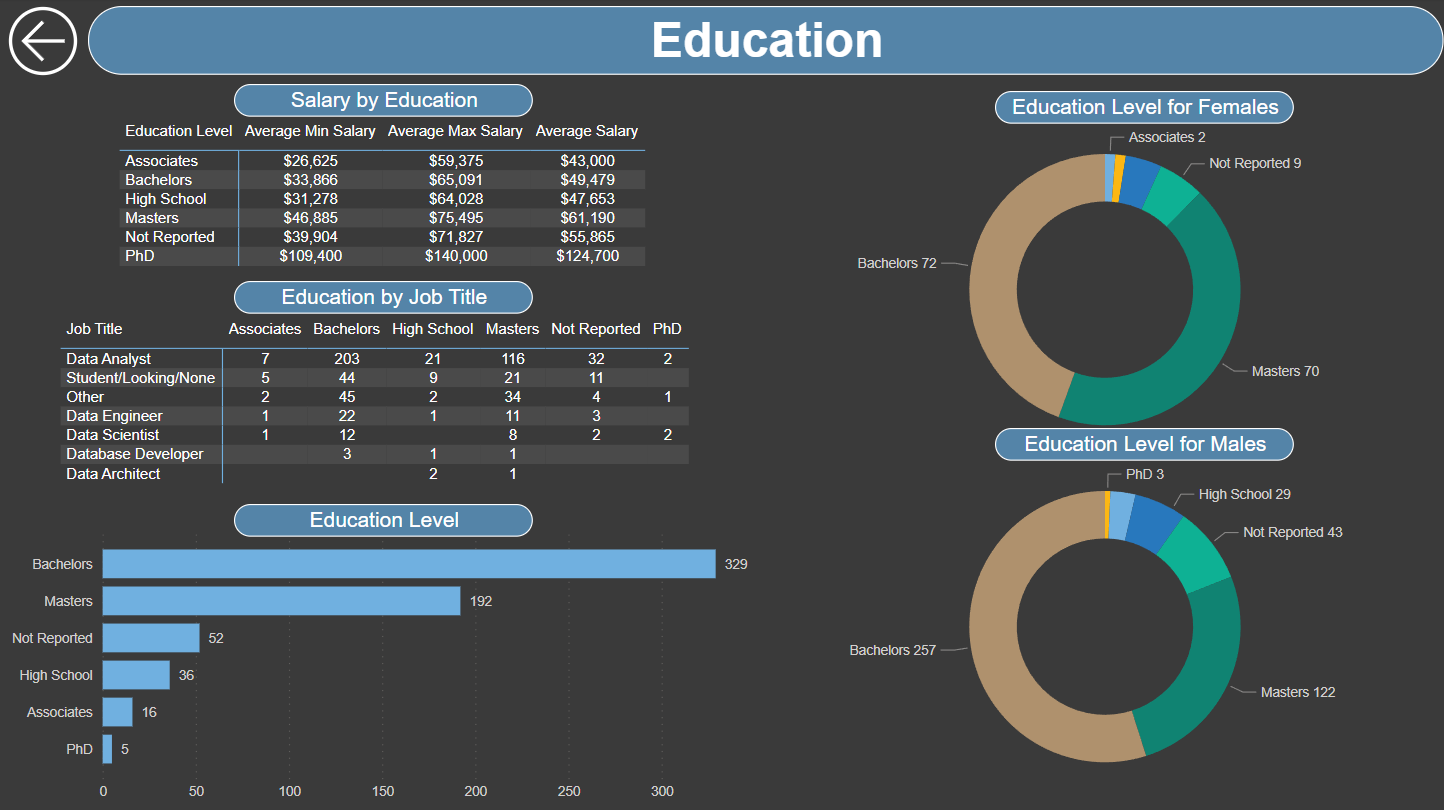

Layout of this report page (visuals, bound fields, positions):
{"tool":"powerbi","page":{"name":"Education","canvas":[1280,720],"ordinal":1},"visuals":[{"type":"actionButton","box":[0,0,78,76.3],"z":0},{"type":"textbox","box":[77.6,7.1,1202.4,61.2],"z":1000},{"type":"clusteredBarChart","fields":{"Category":["Data Professional Survey.Q12 - Highest Level of Education"],"Y":["CountNonNull(Data Professional Survey.Q12 - Highest Level of Education)"]},"box":[0,463,678.9,256.8],"z":2000},{"type":"donutChart","fields":{"Category":["Data Professional Survey.Q12 - Highest Level of Education"],"Y":["CountNonNull(Data Professional Survey.Q12 - Highest Level of Education)"]},"box":[678.9,395.9,601.1,323.9],"z":3000},{"type":"donutChart","fields":{"Category":["Data Professional Survey.Q12 - Highest Level of Education"],"Y":["CountNonNull(Data Professional Survey.Q12 - Highest Level of Education)"]},"box":[678.9,96.3,601.1,323.9],"z":4000},{"type":"pivotTable","fields":{"Rows":["Data Professional Survey.Q1 - Which Title Best Fits your Current Role?.1"],"Columns":["Data Professional Survey.Q12 - Highest Level of Education"],"Values":["CountNonNull(Data Professional Survey.Q1 - Which Title Best Fits your Current Role?.1)"]},"box":[48.6,280.1,580.7,158.5],"z":5000},{"type":"textbox","box":[882.2,381.3,264.6,29.2],"z":6000},{"type":"textbox","box":[882.2,82.7,264.6,29.2],"z":7000},{"type":"textbox","box":[207.2,250.9,264.6,29.2],"z":8000},{"type":"textbox","box":[207.2,448.4,264.6,29.2],"z":9000},{"type":"pivotTable","fields":{"Rows":["Data Professional Survey.Q12 - Highest Level of Education"],"Values":["Avg(Data Professional Survey.Q3 - Min Current Yearly Salary (in USD).1)","Avg(Data Professional Survey.Q3 - Max Current Yearly Salary (in USD).2)","Avg(Data Professional Survey.Average Yearly Salary (in USD))"]},"box":[101.2,105,476.6,140.1],"z":10000},{"type":"textbox","box":[207.2,75.9,264.6,29.2],"z":11000}]}

Visuals, with their boxes in screenshot pixels (x1, y1, x2, y2), scaled from the page's 1280x720 canvas onto the 1444x810 screenshot:
actionButton: [0, 0, 88, 86]
textbox: [88, 8, 1443, 77]
clusteredBarChart - Data Professional Survey.Q12 - Highest Level of Education x CountNonNull(Data Professional Survey.Q12 - Highest Level of Education): [0, 521, 766, 809]
donutChart - Data Professional Survey.Q12 - Highest Level of Education x CountNonNull(Data Professional Survey.Q12 - Highest Level of Education): [766, 445, 1443, 809]
donutChart - Data Professional Survey.Q12 - Highest Level of Education x CountNonNull(Data Professional Survey.Q12 - Highest Level of Education): [766, 108, 1443, 473]
pivotTable - Data Professional Survey.Q1 - Which Title Best Fits your Current Role?.1 x Data Professional Survey.Q12 - Highest Level of Education: [55, 315, 710, 493]
textbox: [995, 429, 1294, 462]
textbox: [995, 93, 1294, 126]
textbox: [234, 282, 532, 315]
textbox: [234, 504, 532, 537]
pivotTable - Data Professional Survey.Q12 - Highest Level of Education x Avg(Data Professional Survey.Q3 - Min Current Yearly Salary (in USD).1): [114, 118, 652, 276]
textbox: [234, 85, 532, 118]
